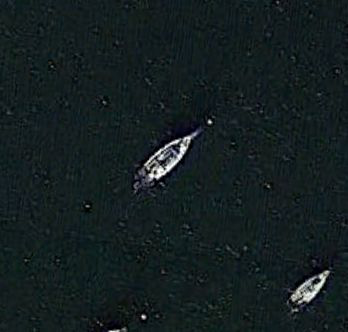boat: (144, 126, 206, 181), (285, 268, 334, 313)
